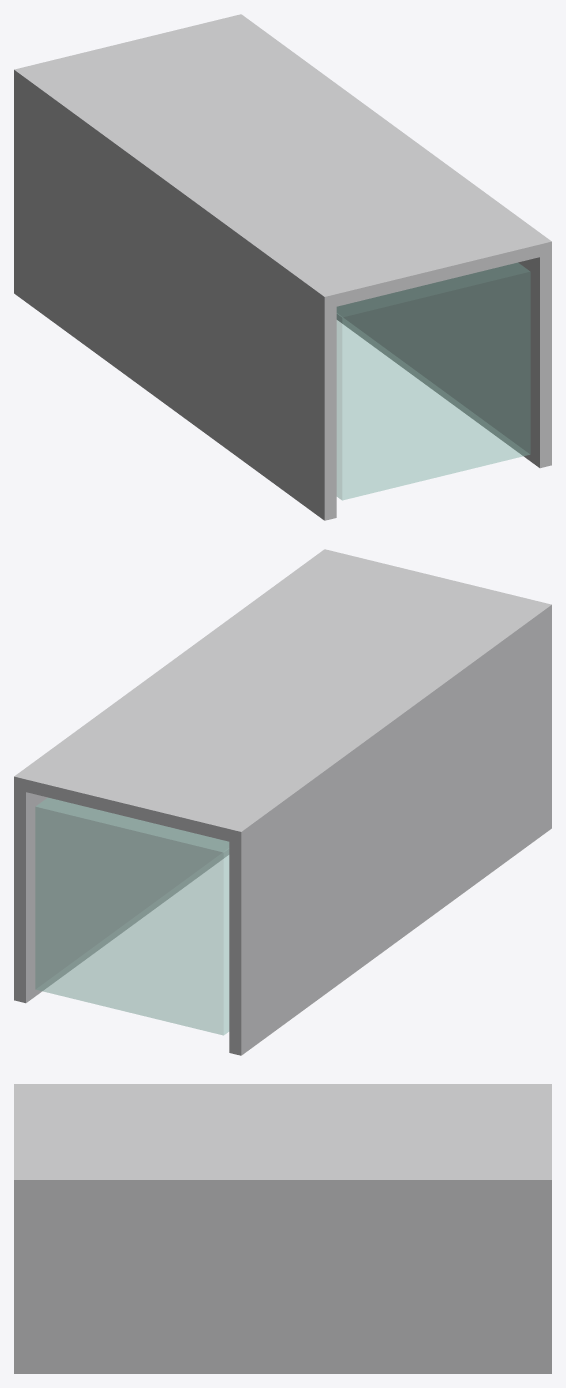
The model's file is PretreatTunnel-8m.glb.
The picture shows the model from 3 angles, top to bottom: view 1: azimuth 30°, elevation 25°; view 2: azimuth 150°, elevation 25°; view 3: azimuth 270°, elevation 25°; orthographic projection. The views are drawn at different scales.
Visible parts, largest first — view 1: Shell-Roof, Shell-Left, ProcessZone, Shell-Right; view 2: Shell-Roof, Shell-Left, ProcessZone, Shell-Right; view 3: Shell-Right, Shell-Roof.
Part boxes in pixels (x1,y1,x2,y2): Shell-Roof: (14,14,551,309); Shell-Left: (14,82,336,520); ProcessZone: (336,262,530,500); Shell-Right: (336,254,551,468); Shell-Roof: (14,549,551,844); Shell-Left: (229,617,551,1055); ProcessZone: (35,797,229,1035); Shell-Right: (14,789,229,1003); Shell-Right: (14,1191,551,1373); Shell-Roof: (14,1084,551,1190).
Size of the model in its own units: 3.38 by 3.18 by 8.
